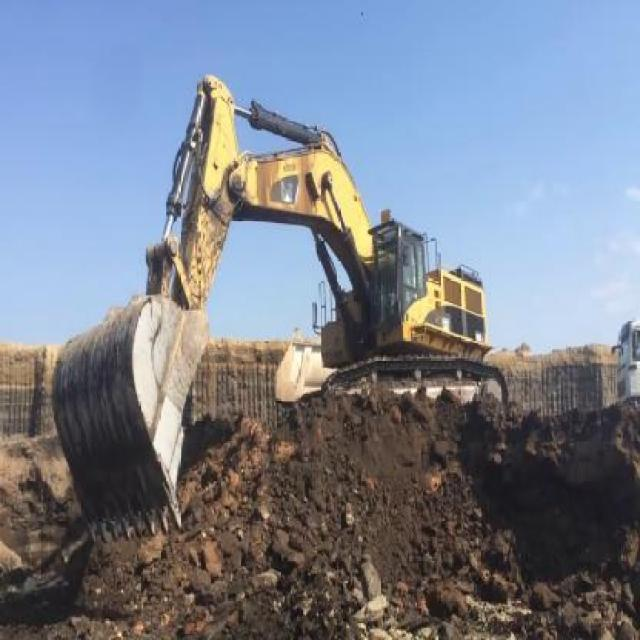excavator: (50, 68, 512, 549)
